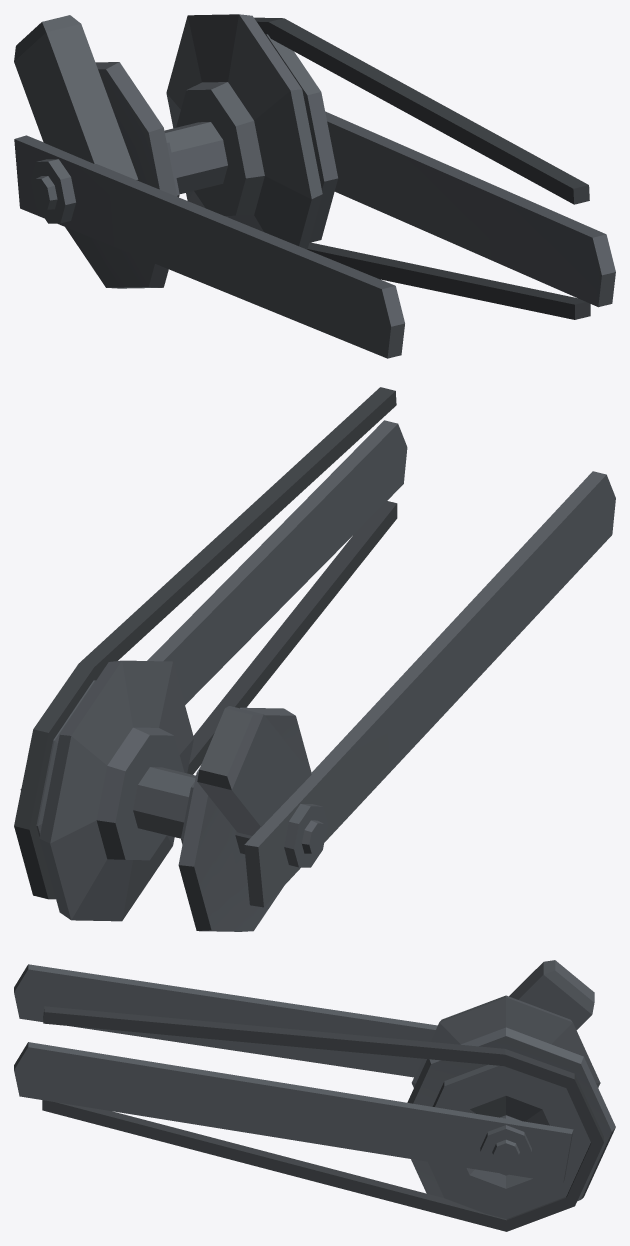
Rendered from SM_Veh_Motorbike_Apoco_Rear_Shock_01.obj.
The picture shows the model from 3 angles, top to bottom: view 1: azimuth 30°, elevation 25°; view 2: azimuth 150°, elevation 25°; view 3: azimuth 270°, elevation 25°; orthographic projection. The views are drawn at different scales.
Visible parts, largest first — view 1: SM_Veh_Motorbike_Apoco_Rear_Shock_01_0; view 2: SM_Veh_Motorbike_Apoco_Rear_Shock_01_0; view 3: SM_Veh_Motorbike_Apoco_Rear_Shock_01_0.
Part boxes in pixels (x1,y1,x2,y2): SM_Veh_Motorbike_Apoco_Rear_Shock_01_0: [14, 14, 615, 358]; SM_Veh_Motorbike_Apoco_Rear_Shock_01_0: [14, 387, 615, 931]; SM_Veh_Motorbike_Apoco_Rear_Shock_01_0: [14, 960, 615, 1231].
Bounding box in the file's own units: 0.3073 × 0.3286 × 0.7764.
Materials: 1 (1 with a texture image).
